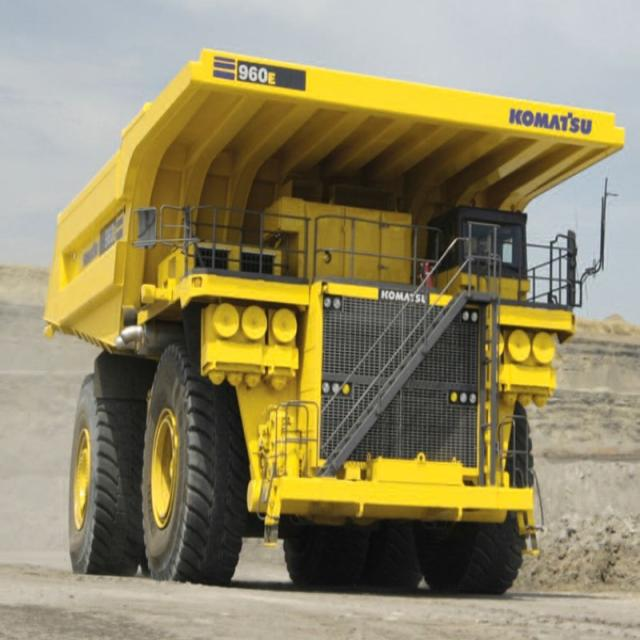dump_truck: (45, 47, 614, 594)
